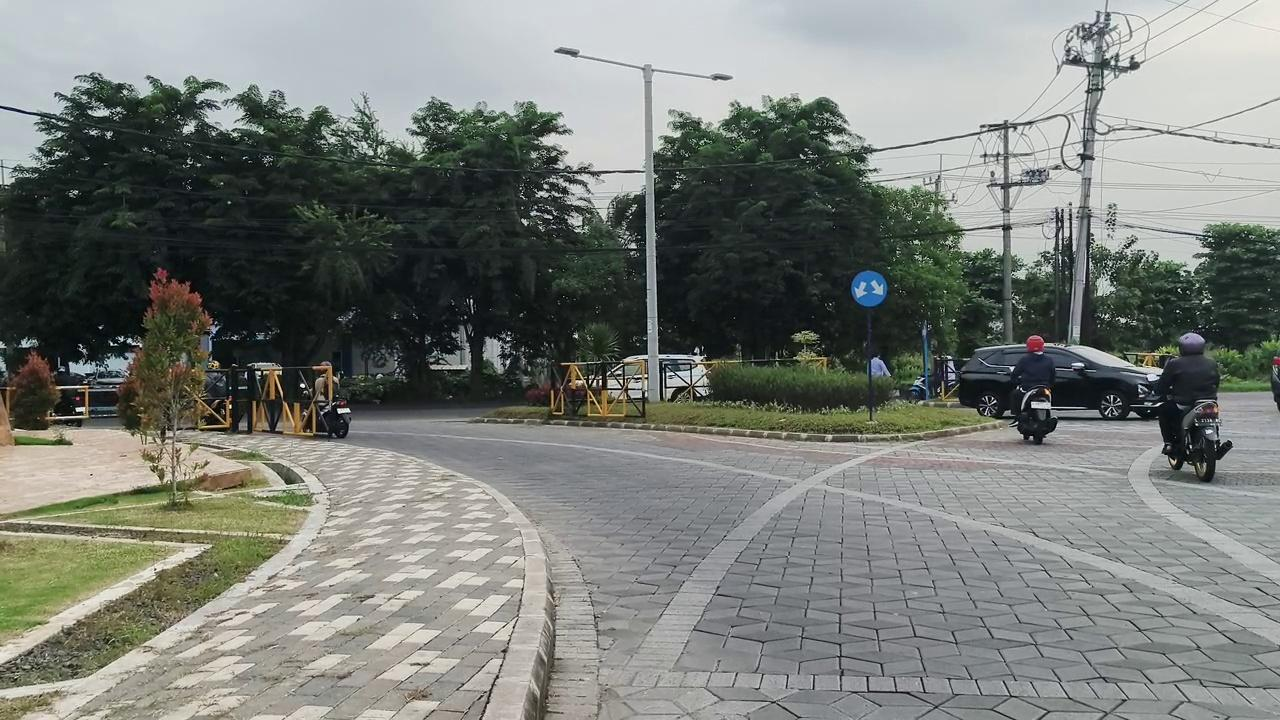Helmet: (1155, 332, 1219, 454), (1009, 335, 1055, 424)
Motor: (1168, 401, 1232, 481), (1016, 386, 1058, 444), (315, 398, 351, 438), (909, 376, 928, 403)
